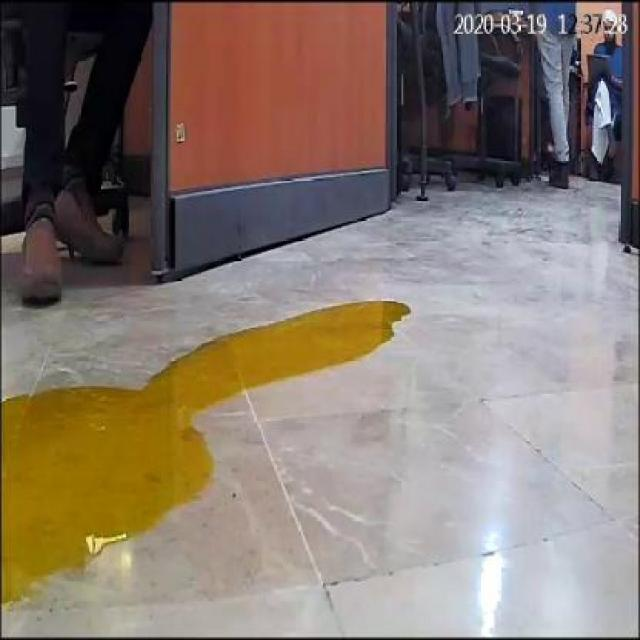spill: (2, 293, 410, 612)
